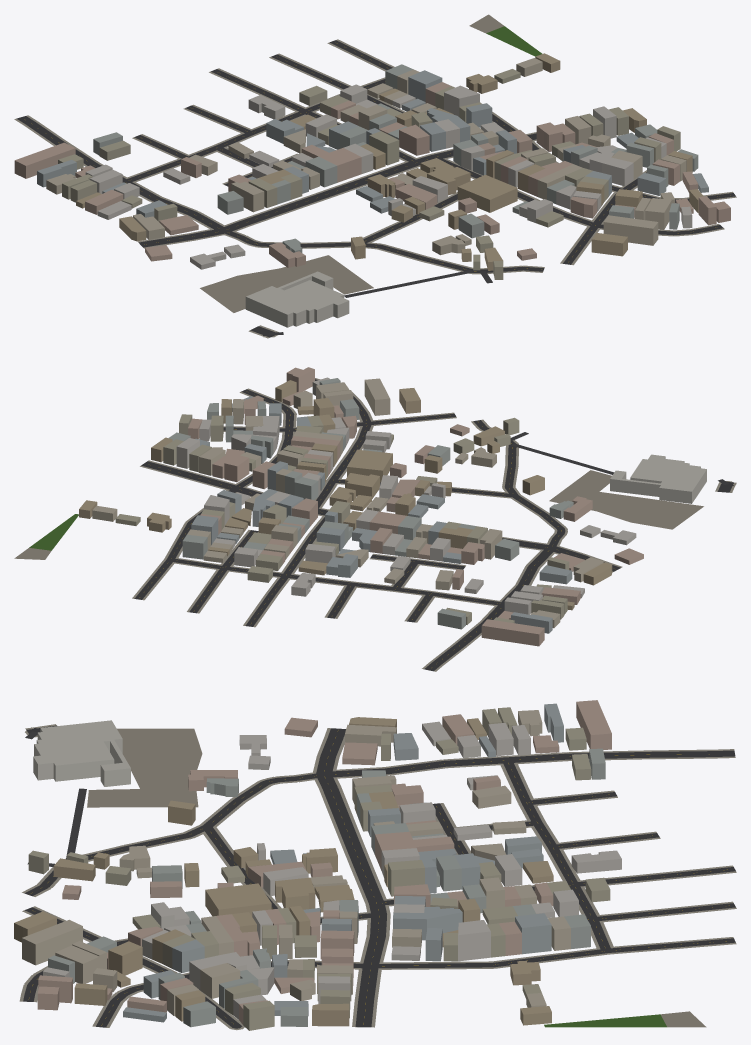
The picture shows the model from 3 angles, top to bottom: view 1: azimuth 30°, elevation 25°; view 2: azimuth 150°, elevation 25°; view 3: azimuth 270°, elevation 25°; orthographic projection. The views are drawn at different scales.
Parts seen in each view (by area): view 1: tile_-2_-2; view 2: tile_-2_-2; view 3: tile_-2_-2.
Part boxes in pixels (box(x1,y1,x2,y2)): tile_-2_-2: box(14, 14, 736, 338); tile_-2_-2: box(14, 367, 736, 671); tile_-2_-2: box(14, 700, 736, 1030).
Size of the model in its own units: 422 by 16.4 by 409.
